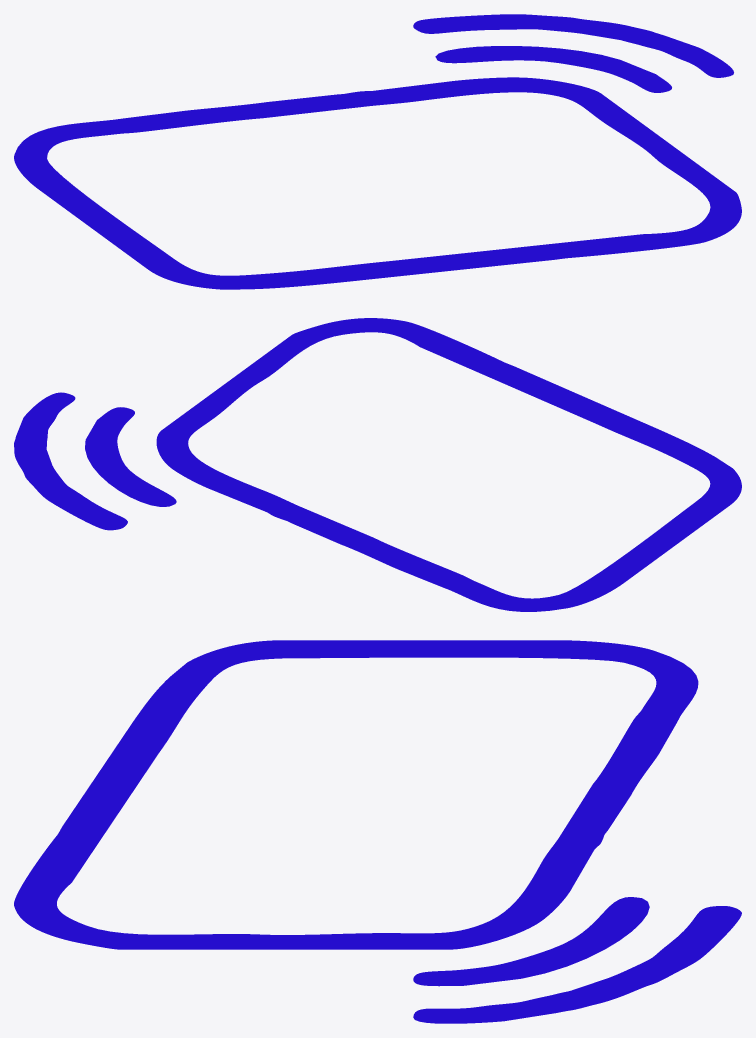
Rendered from Schityvatel_kart.fbx.
The picture shows the model from 3 angles, top to bottom: view 1: azimuth 30°, elevation 25°; view 2: azimuth 150°, elevation 25°; view 3: azimuth 270°, elevation 25°; orthographic projection. The views are drawn at different scales.
Visible parts, largest first — view 1: Curve.005; view 2: Curve.005; view 3: Curve.005.
Part boxes in pixels (<box>): Curve.005: <box>14,14,741,289</box>; Curve.005: <box>14,318,741,611</box>; Curve.005: <box>14,640,741,1023</box>.
Size of the model in its own units: 3.12 by 4.07e-07 by 2.5.
